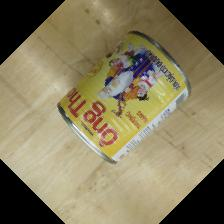Ong_tho: (56, 31, 191, 167)
